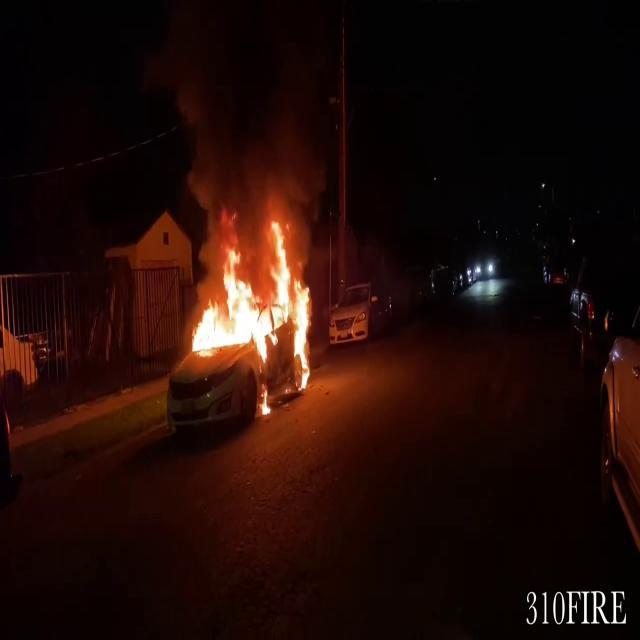Fire: (184, 202, 320, 402)
Smoke: (144, 0, 332, 228)
